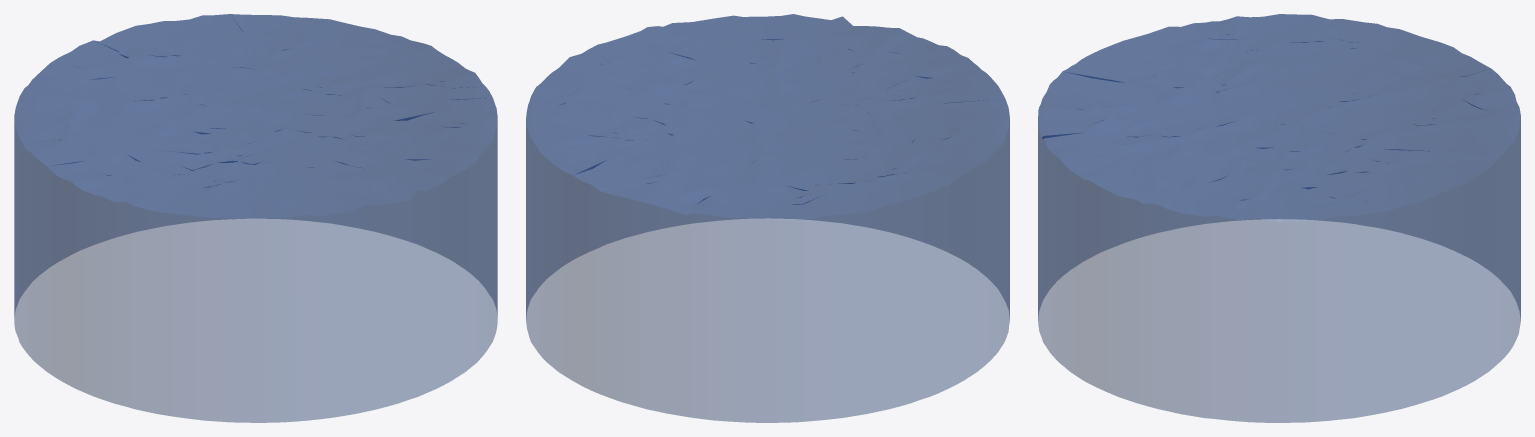
File: Sea.fbx
The picture shows the model from 3 angles, left to right: view 1: azimuth 30°, elevation 25°; view 2: azimuth 150°, elevation 25°; view 3: azimuth 270°, elevation 25°; orthographic projection.
Visible parts, largest first — view 1: Sea; view 2: Sea; view 3: Sea.
Part boxes in pixels (x1,y1,x2,y2): Sea: (14,14,497,422); Sea: (526,14,1009,422); Sea: (1038,14,1520,422).
Bounding box in the file's own units: 1868 × 882 × 1870.
